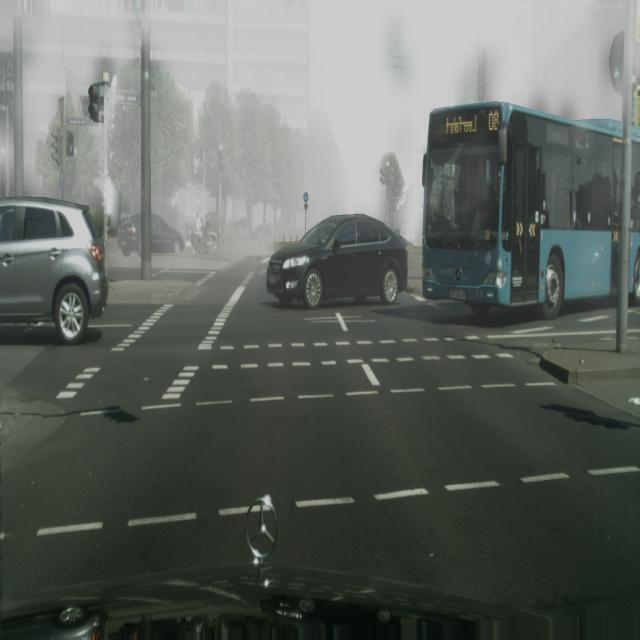car: (189, 222, 219, 260)
motorcycle: (421, 101, 640, 321)
person: (194, 211, 203, 252)
truck: (0, 198, 108, 346), (266, 214, 409, 310), (118, 212, 187, 258)
